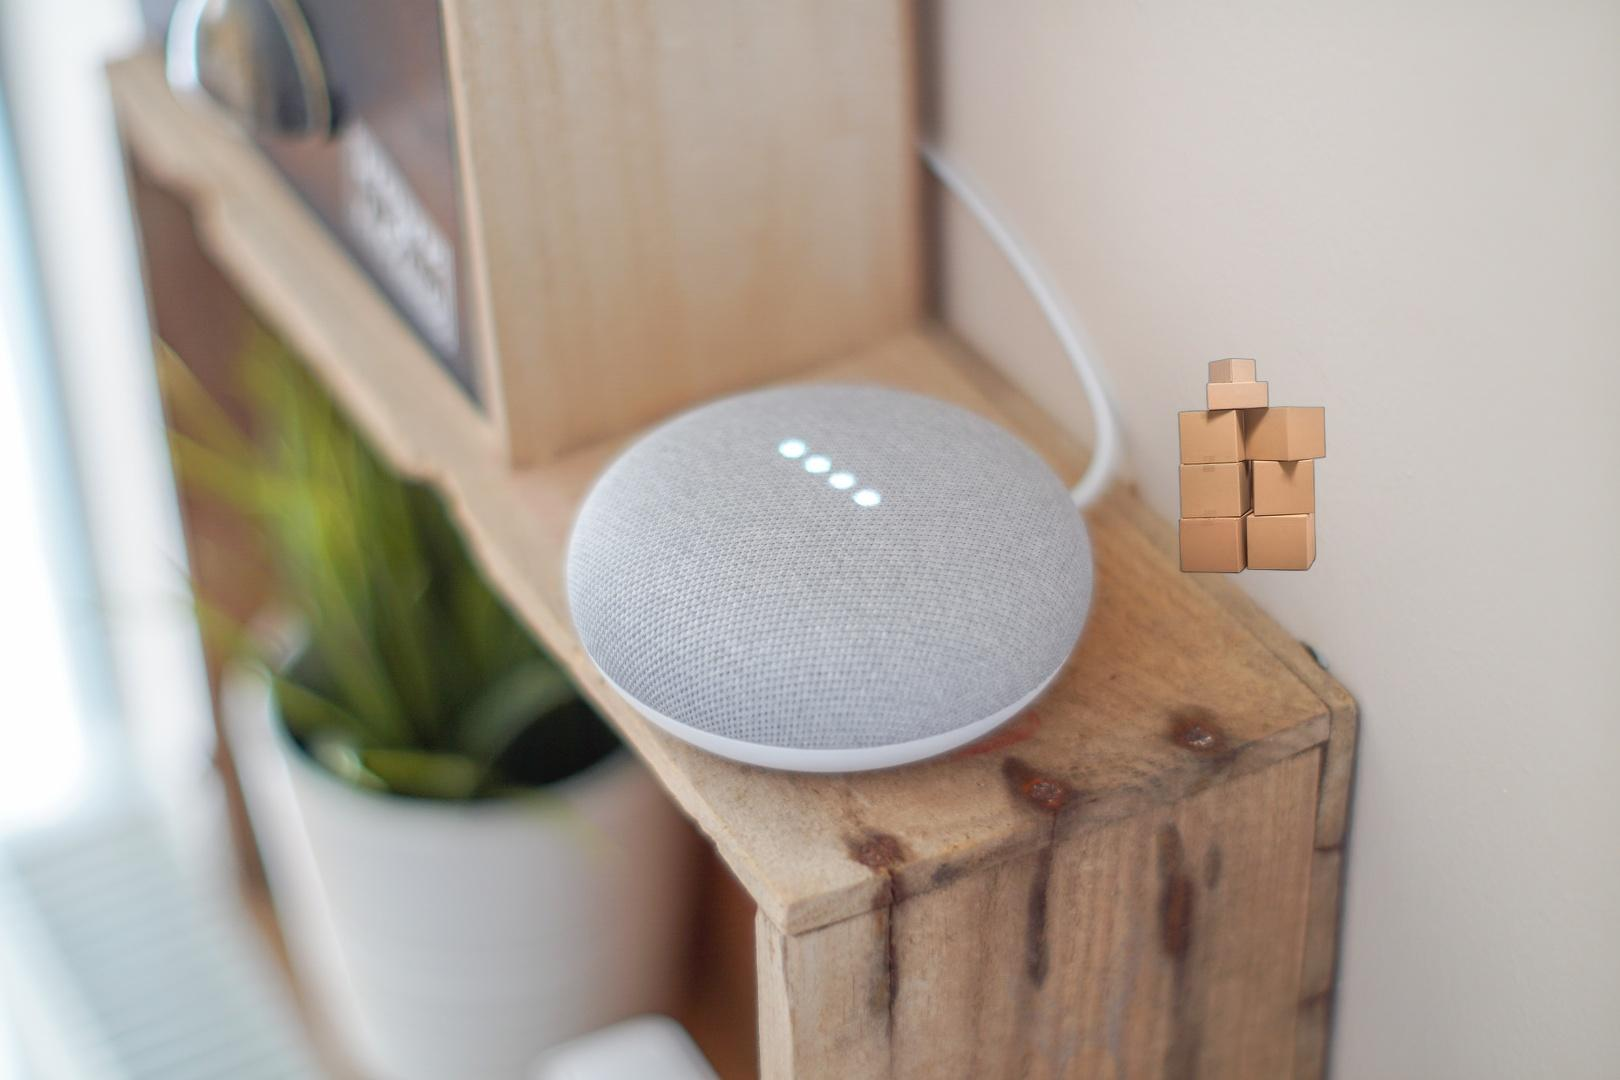trashbox-cardboard: (1175, 356, 1330, 576)
